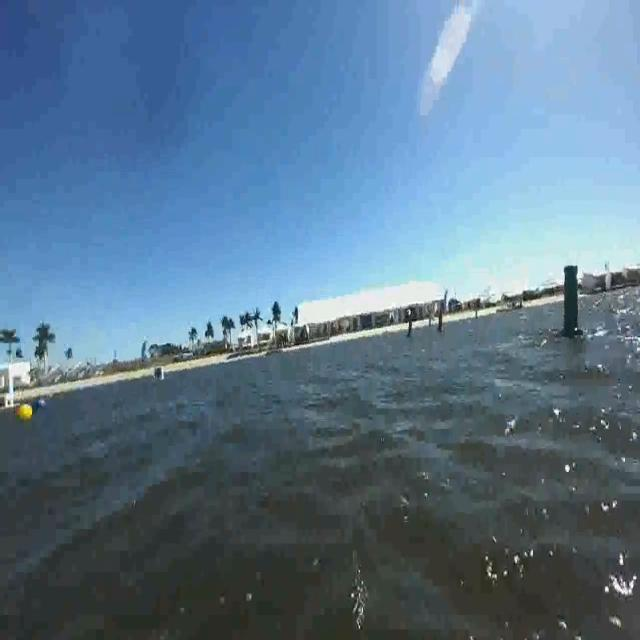green-column-buoy: (559, 262, 584, 340)
yellow-buoy: (18, 405, 32, 423)
